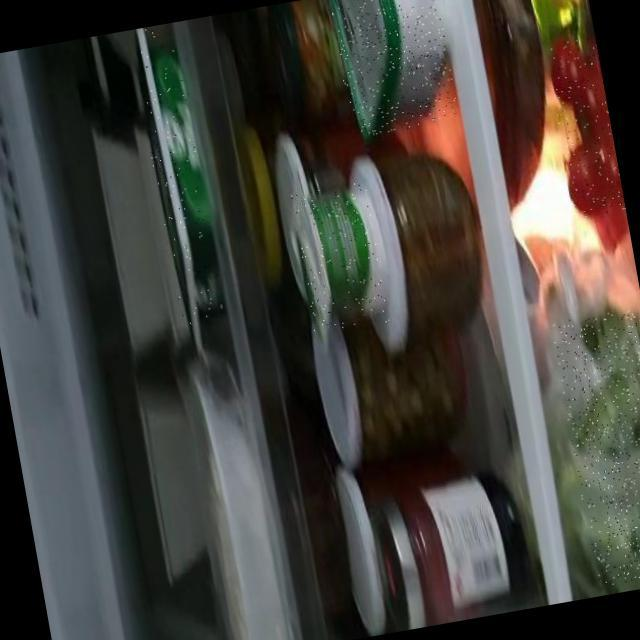Lechuga/Endivia: (549, 304, 640, 586)
Queso: (328, 0, 459, 137)
Yogur: (290, 180, 390, 334)
cream: (128, 21, 225, 324)
tomato paste: (545, 34, 626, 217)
